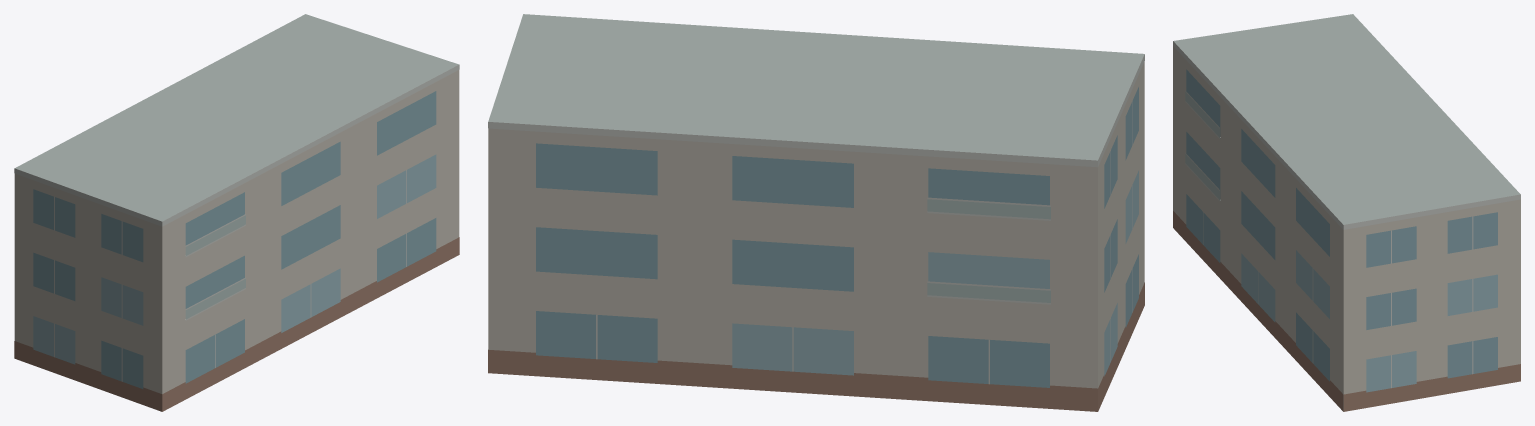
The model's file is survey-upis-32841380.glb.
The picture shows the model from 3 angles, left to right: view 1: azimuth 30°, elevation 25°; view 2: azimuth 150°, elevation 25°; view 3: azimuth 270°, elevation 25°; orthographic projection. The views are drawn at different scales.
Visible parts, largest first — view 1: survey-upis-32841380.tmp; view 2: survey-upis-32841380.tmp; view 3: survey-upis-32841380.tmp.
Boxes of the visible parts, x1=… form: survey-upis-32841380.tmp: x1=14, y1=14, x2=459, y2=411; survey-upis-32841380.tmp: x1=488, y1=14, x2=1144, y2=411; survey-upis-32841380.tmp: x1=1173, y1=14, x2=1520, y2=411.
Bounding box in the file's own units: 22.15 × 9.15 × 15.43.
